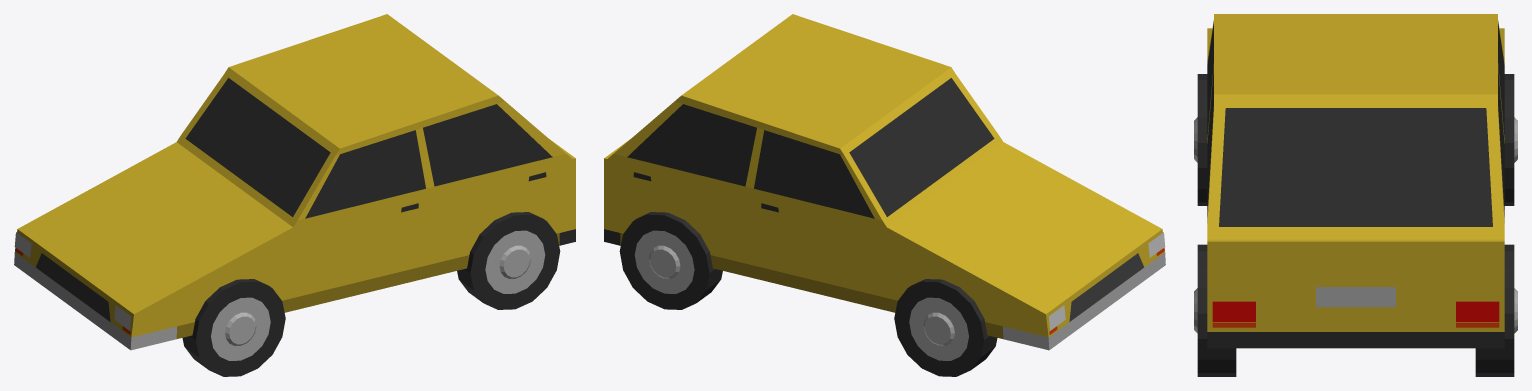
File: Car1b.fbx
3 views of the same model, side by side, from view 1: azimuth 30°, elevation 25°; view 2: azimuth 150°, elevation 25°; view 3: azimuth 270°, elevation 25° (orthographic). The views are drawn at different scales.
Parts seen in each view (by area): view 1: Car1b, Car1b_FL, Car1b_RL; view 2: Car1b, Car1b_FR, Car1b_RR; view 3: Car1b, Car1b_RL, Car1b_RR, Car1b_FL, Car1b_FR.
Boxes of the visible parts, <box> form: Car1b: <box>14,14,575,350</box>; Car1b_FL: <box>182,279,285,376</box>; Car1b_RL: <box>457,212,560,309</box>; Car1b: <box>604,14,1165,350</box>; Car1b_FR: <box>894,279,997,376</box>; Car1b_RR: <box>619,212,722,309</box>; Car1b: <box>1207,14,1504,348</box>; Car1b_RL: <box>1194,244,1236,376</box>; Car1b_RR: <box>1475,244,1517,376</box>; Car1b_FL: <box>1194,74,1207,205</box>; Car1b_FR: <box>1504,74,1517,205</box>.
Size of the model in its own units: 3.43 by 1.56 by 1.69.
